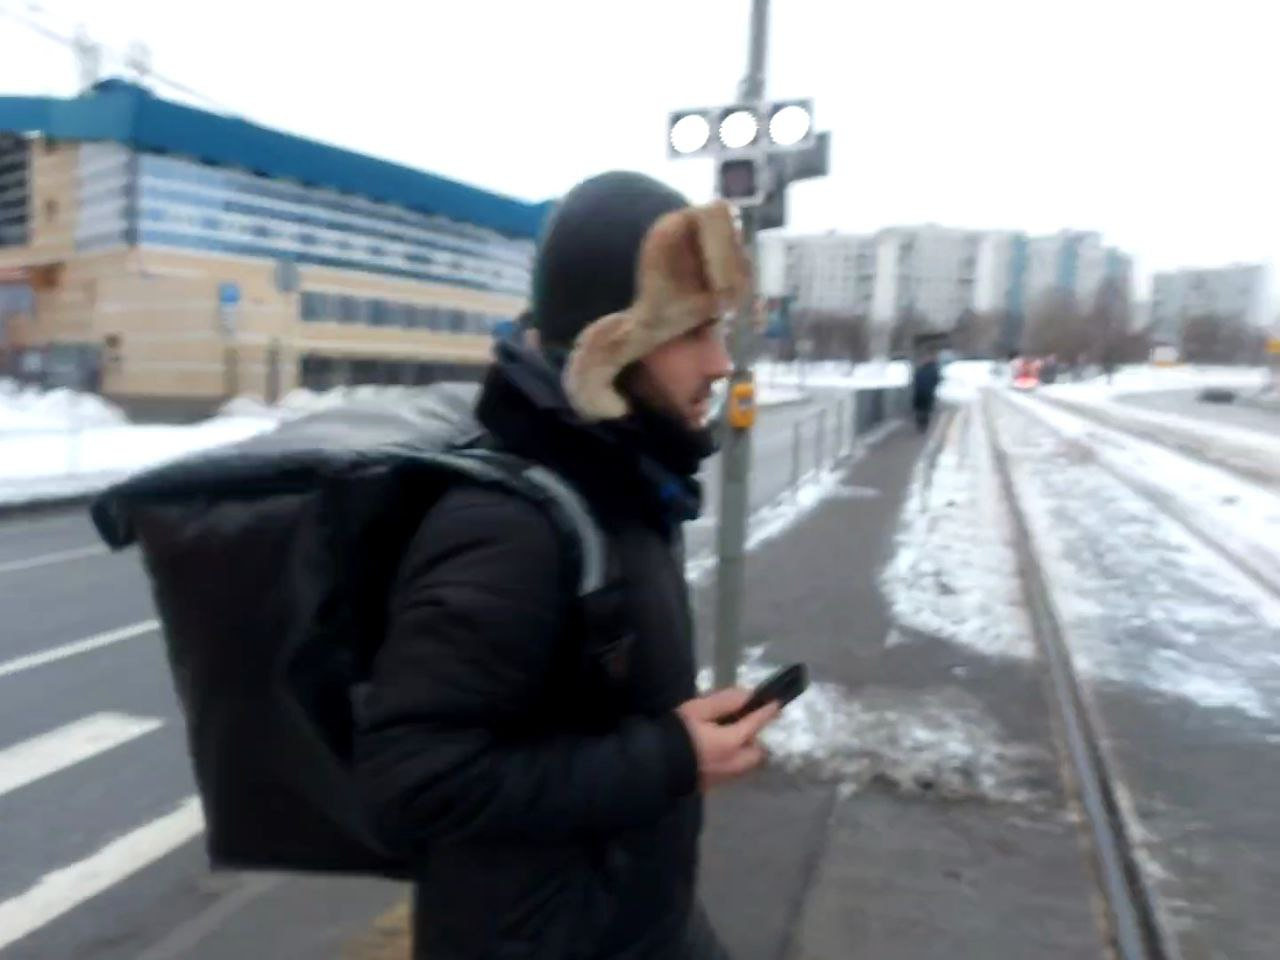sombie: (157, 133, 906, 960)
